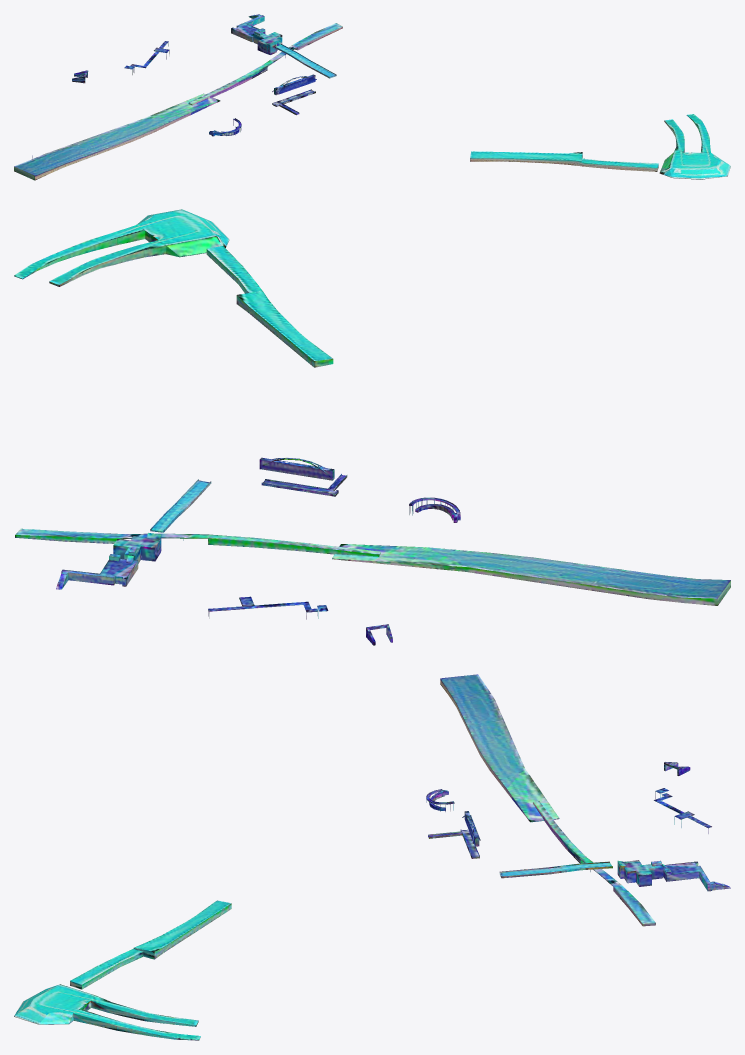
The model's file is -50-0-brid.fbx.
The picture shows the model from 3 angles, top to bottom: view 1: azimuth 30°, elevation 25°; view 2: azimuth 150°, elevation 25°; view 3: azimuth 270°, elevation 25°; orthographic projection. The views are drawn at different scales.
Visible parts, largest first — view 1: Mesh_0; view 2: Mesh_0; view 3: Mesh_0.
Boxes of the visible parts, x1,y1,x2,y2 form: Mesh_0: (14, 14, 730, 180); Mesh_0: (14, 209, 730, 645); Mesh_0: (14, 674, 730, 1040).
Bounding box in the file's own units: 100 × 4.97 × 84.94.
Materials: 1 (1 with a texture image).
